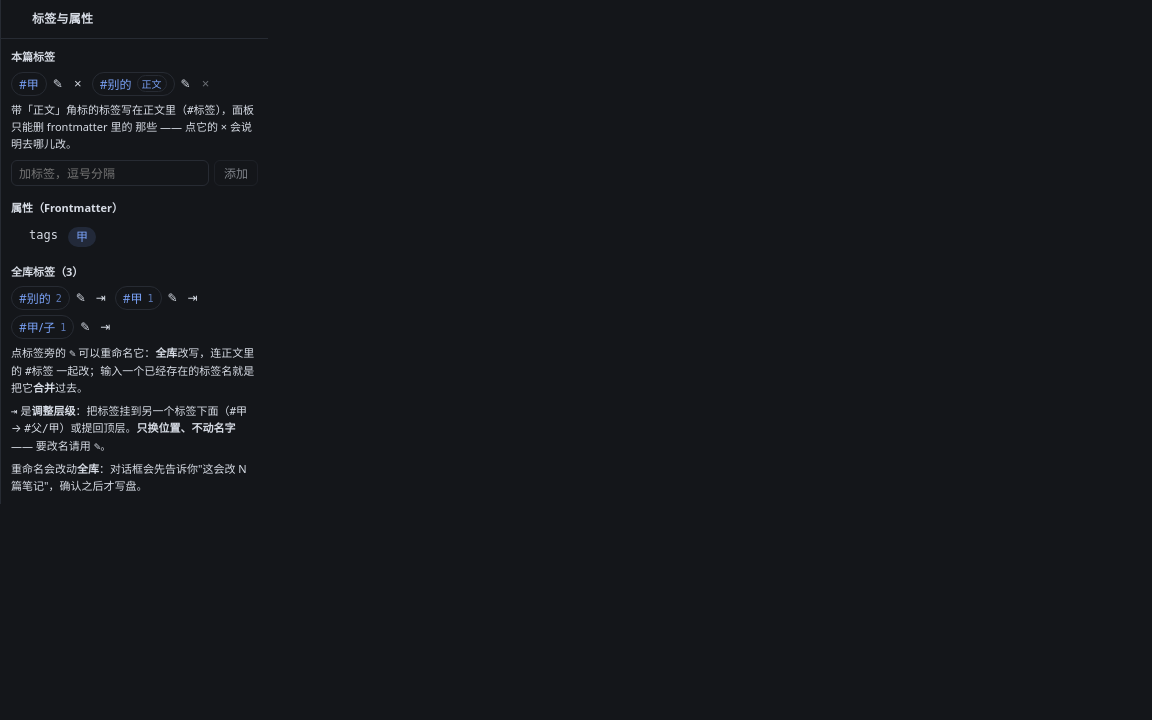
先预览再确定 › 输入框里回车 = 预览改动（移动模式下空输入也是合法的）
Expected: the button "#甲" is shown, 11,72 -> 47,96
Expected: the 1st button "⇥" is shown, 92,289 -> 110,307
Click the 3rd button "⇥" at (105, 327), box 96,318 -> 114,336
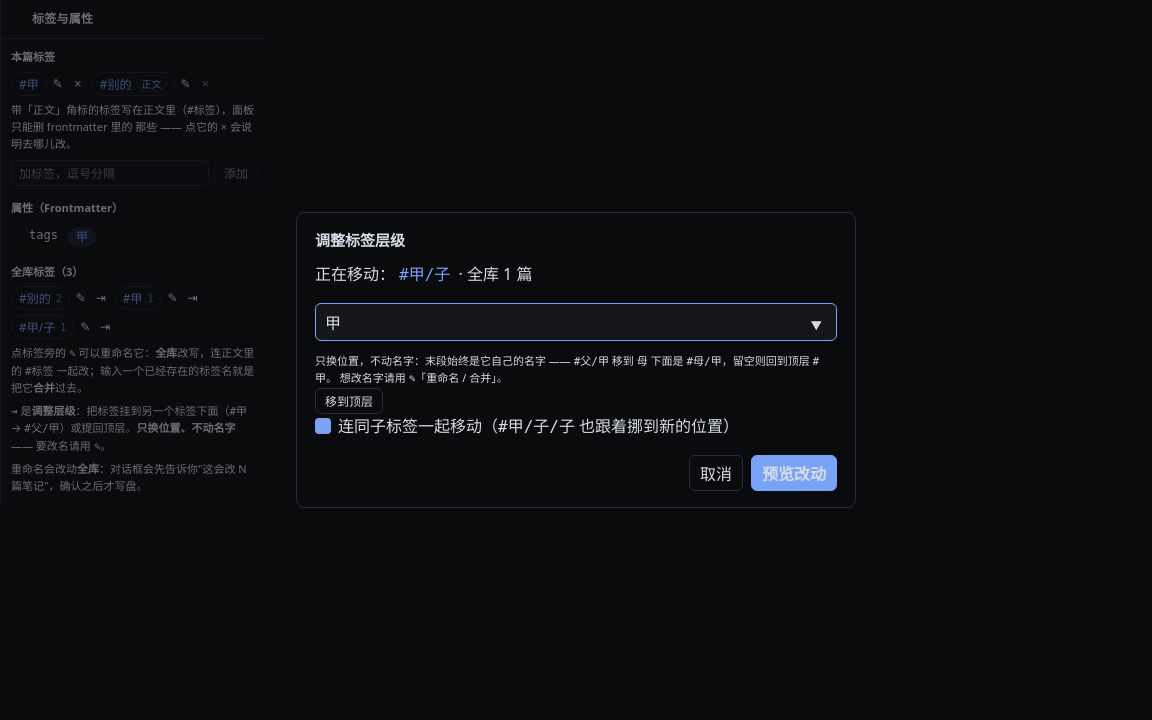
Result: the element that starts with "调整标签层级" is shown
Clear the field named "父标签" at (576, 322), box 315,303 -> 837,341
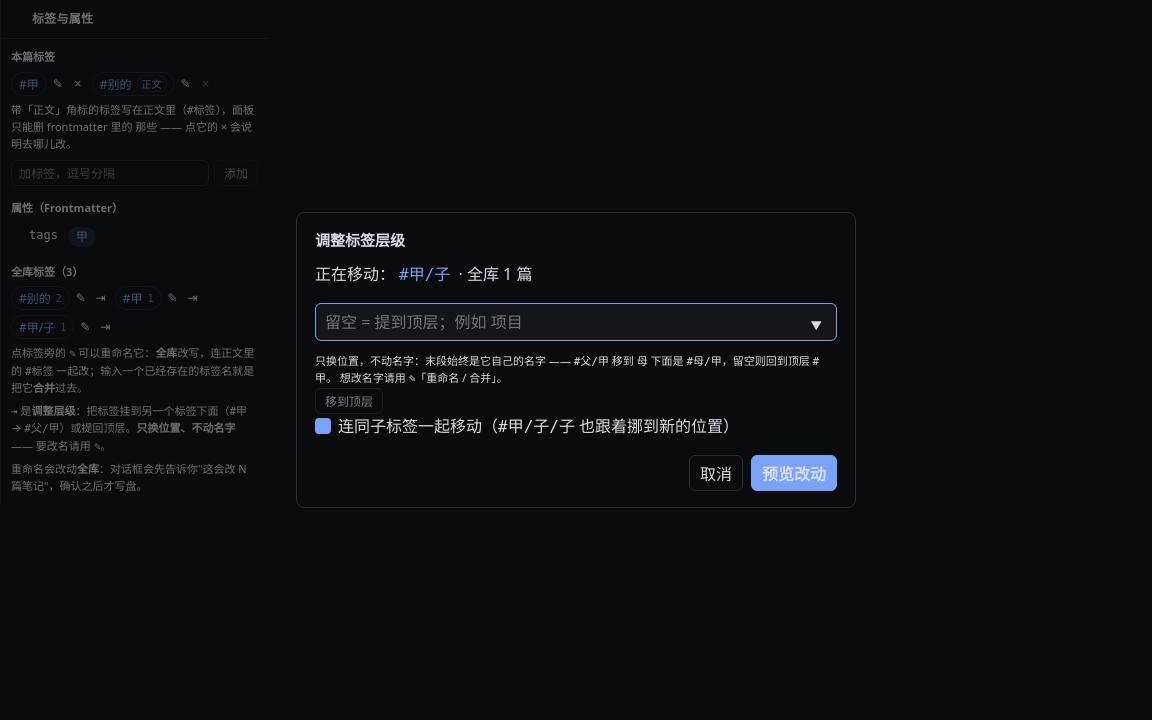
Press Enter in the field with placeholder "留空 = 提到顶层；例如 项目", box 315,303 -> 837,341
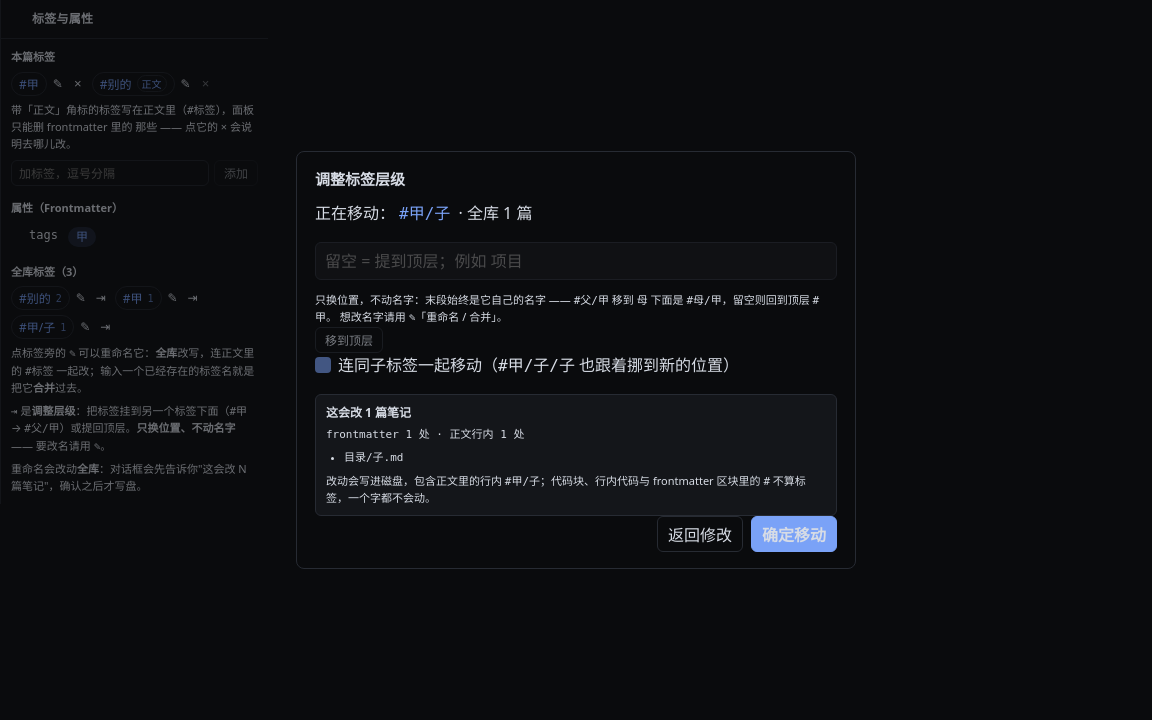
Result: the element that starts with "这会改 1 篇笔记" is shown at 315,394 -> 837,516
